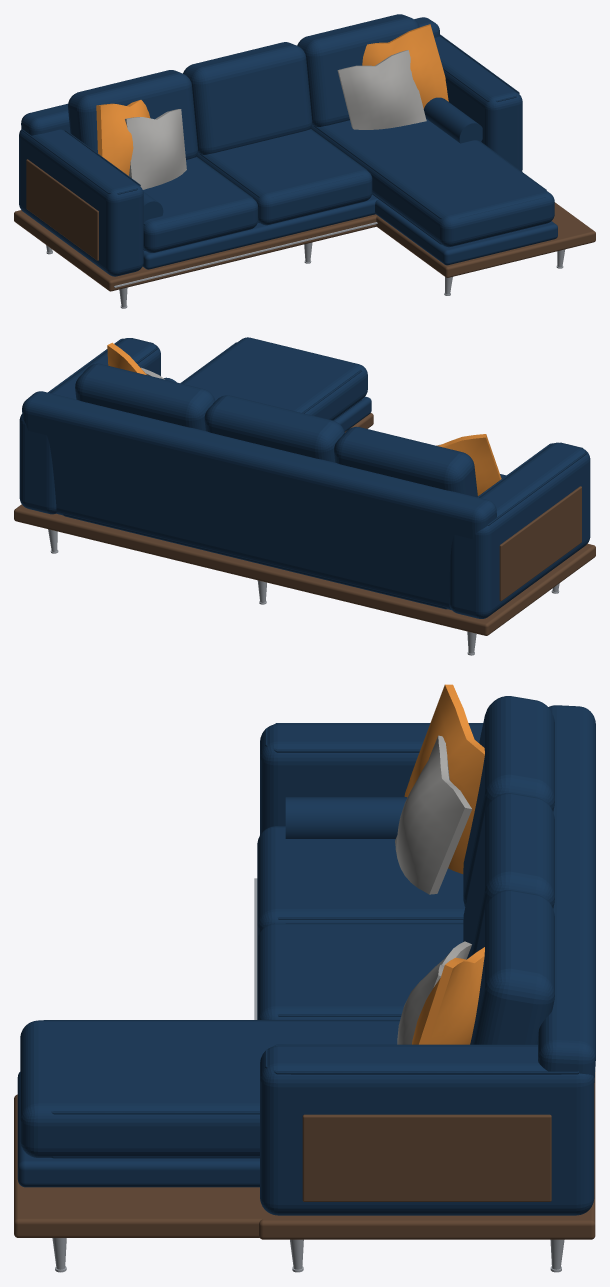
Rendered from milano-coast-3.glb.
3 renders of one model, top to bottom at view 1: azimuth 30°, elevation 25°; view 2: azimuth 150°, elevation 25°; view 3: azimuth 270°, elevation 25°, orthographic. The views are drawn at different scales.
Bounding box in the file's own units: 2.2 × 0.8344 × 1.52.
